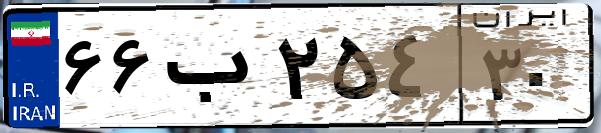0: (525, 38, 570, 115)
2: (270, 28, 330, 110)
3: (475, 38, 525, 113)
4: (385, 28, 445, 110)
5: (330, 28, 385, 110)
6: (57, 26, 110, 100), (110, 28, 158, 98)
ب: (158, 20, 270, 120)
